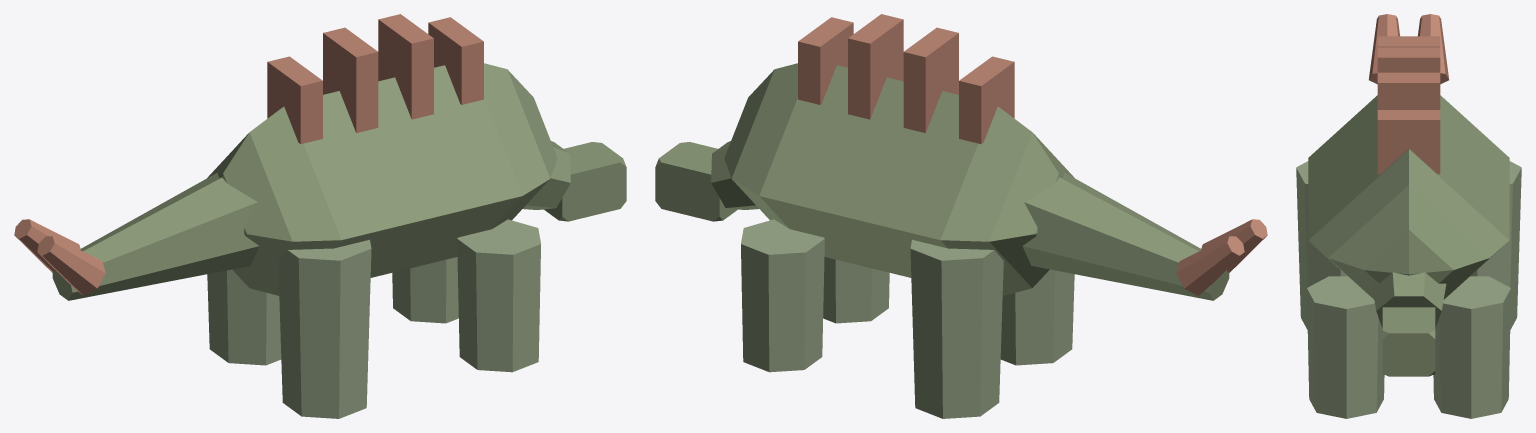
The picture shows the model from 3 angles, left to right: view 1: azimuth 30°, elevation 25°; view 2: azimuth 150°, elevation 25°; view 3: azimuth 270°, elevation 25°; orthographic projection. The views are drawn at different scales.
Parts seen in each view (by area): view 1: part0, part7, part3, part5, part6, part10, part9, part2, part4, part11, part8, part13 (+2 smaller); view 2: part0, part6, part3, part4, part7, part10, part9, part2, part5, part11, part8, part12 (+2 smaller); view 3: part0, part4, part5, part2, part8, part6, part7, part9, part1, part10, part12, part13 (+1 smaller).
Boxes of the visible parts, x1=… form: part0: x1=207, y1=63, x2=557, y2=295; part7: x1=278, y1=239, x2=371, y2=418; part3: x1=52, y1=173, x2=259, y2=300; part5: x1=457, y1=219, x2=540, y2=372; part6: x1=207, y1=269, x2=281, y2=365; part10: x1=323, y1=27, x2=378, y2=132; part9: x1=378, y1=14, x2=433, y2=119; part2: x1=544, y1=142, x2=626, y2=221; part4: x1=392, y1=257, x2=458, y2=323; part11: x1=267, y1=56, x2=322, y2=143; part8: x1=428, y1=17, x2=483, y2=104; part13: x1=37, y1=236, x2=105, y2=295; part0: x1=724, y1=63, x2=1074, y2=295; part6: x1=910, y1=239, x2=1003, y2=418; part3: x1=1022, y1=173, x2=1229, y2=300; part4: x1=741, y1=219, x2=824, y2=372; part7: x1=1000, y1=269, x2=1074, y2=365; part10: x1=903, y1=27, x2=958, y2=132; part9: x1=848, y1=14, x2=903, y2=119; part2: x1=655, y1=142, x2=737, y2=221; part5: x1=823, y1=257, x2=889, y2=323; part11: x1=959, y1=56, x2=1014, y2=143; part8: x1=798, y1=17, x2=853, y2=104; part12: x1=1176, y1=236, x2=1244, y2=295; part0: x1=1308, y1=95, x2=1509, y2=299; part4: x1=1433, y1=276, x2=1510, y2=418; part5: x1=1307, y1=276, x2=1384, y2=418; part2: x1=1382, y1=307, x2=1435, y2=376; part8: x1=1377, y1=110, x2=1440, y2=174; part6: x1=1470, y1=161, x2=1521, y2=329; part7: x1=1296, y1=161, x2=1347, y2=329; part9: x1=1377, y1=72, x2=1440, y2=109; part1: x1=1371, y1=272, x2=1446, y2=328; part10: x1=1377, y1=47, x2=1440, y2=72; part12: x1=1418, y1=14, x2=1449, y2=84; part13: x1=1368, y1=14, x2=1399, y2=84.
Size of the model in its own units: 5.27 by 2.73 by 1.88.
